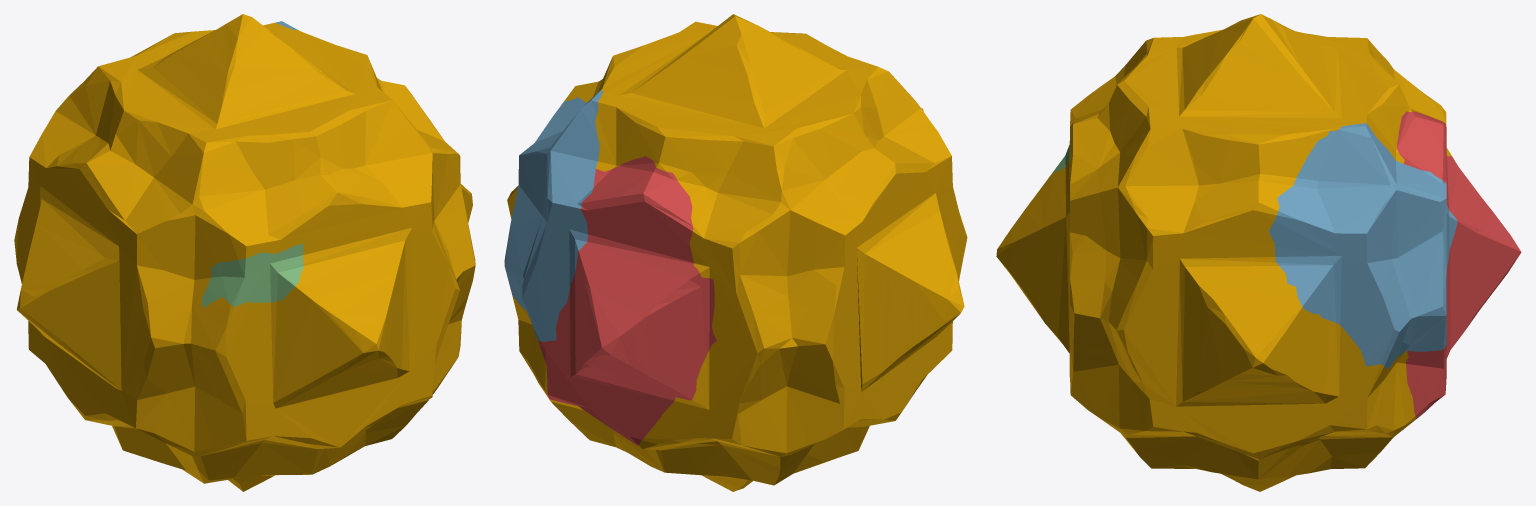
File: fractured_79_4pcs.glb
3 renders of one model, left to right at view 1: azimuth 30°, elevation 25°; view 2: azimuth 150°, elevation 25°; view 3: azimuth 270°, elevation 25°, orthographic.
Parts seen in each view (by area): view 1: piece_0.obj, piece_3.obj; view 2: piece_0.obj, piece_1.obj, piece_2.obj; view 3: piece_0.obj, piece_2.obj, piece_1.obj.
Boxes of the visible parts, x1=… form: piece_0.obj: x1=14, y1=14, x2=475, y2=491; piece_3.obj: x1=202, y1=243, x2=303, y2=308; piece_0.obj: x1=507, y1=14, x2=967, y2=491; piece_1.obj: x1=538, y1=156, x2=716, y2=445; piece_2.obj: x1=504, y1=87, x2=603, y2=341; piece_0.obj: x1=996, y1=14, x2=1451, y2=491; piece_2.obj: x1=1268, y1=123, x2=1457, y2=369; piece_1.obj: x1=1397, y1=111, x2=1521, y2=418.
Bounding box in the file's own units: 0.9951 × 1 × 0.9982.
